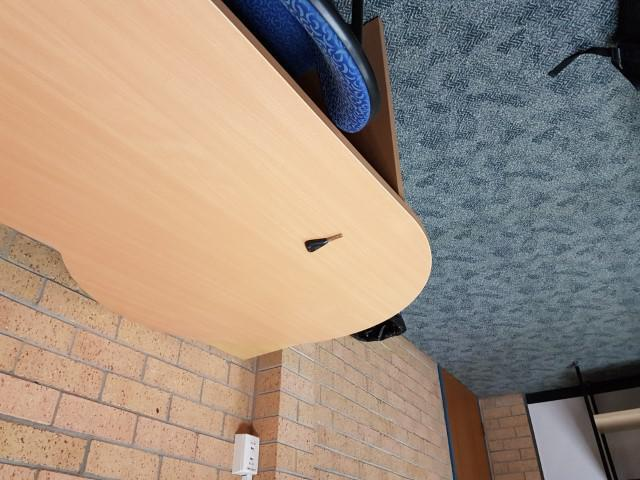key: (305, 232, 344, 252)
